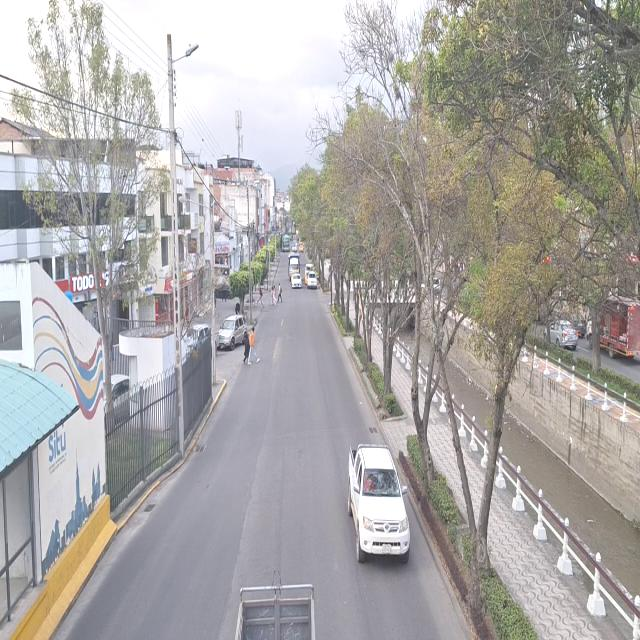CMT: (347, 442, 409, 557)
